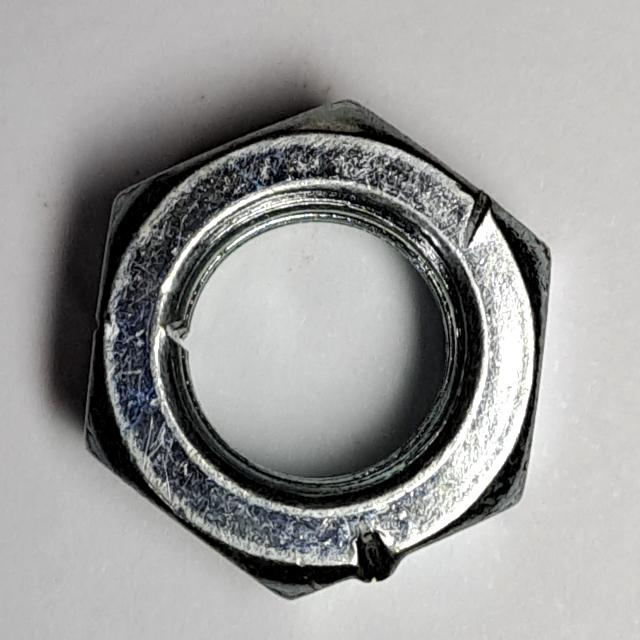Scratches: (72, 87, 561, 617)
